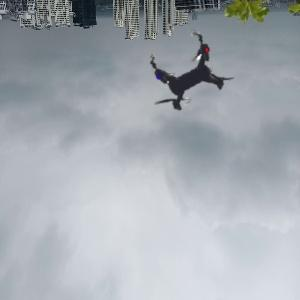drone: (112, 4, 263, 155)
